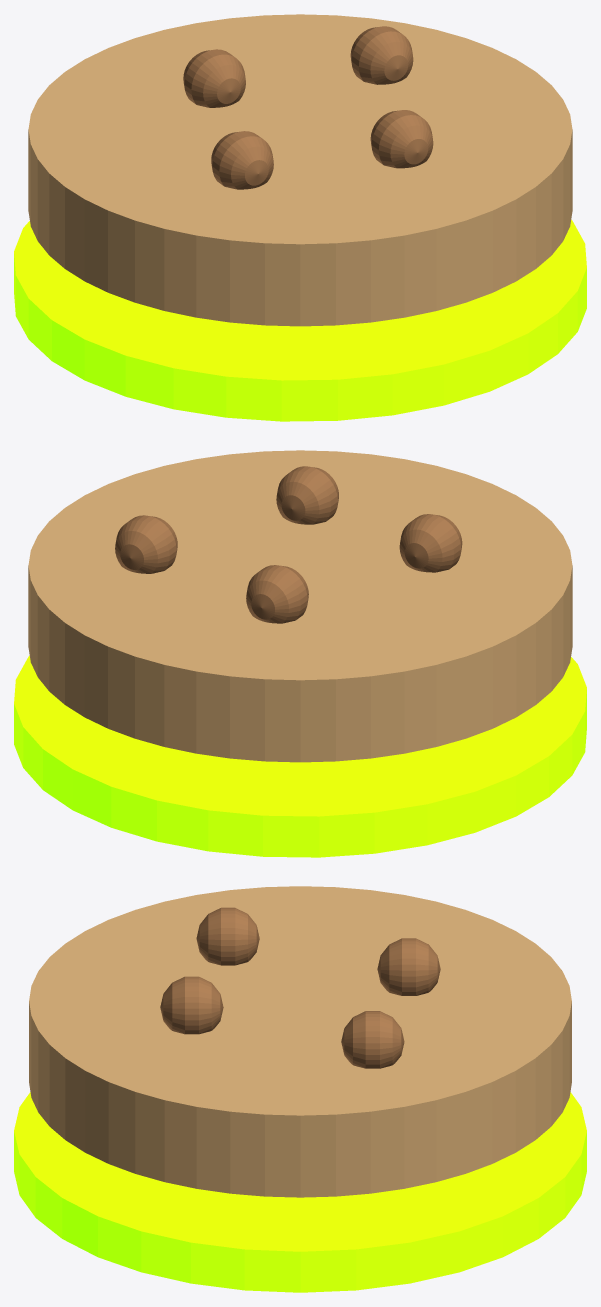
File: food_cookie.glb
The picture shows the model from 3 angles, top to bottom: view 1: azimuth 30°, elevation 25°; view 2: azimuth 150°, elevation 25°; view 3: azimuth 270°, elevation 25°; orthographic projection.
Visible parts, largest first — view 1: 01_19_Popular_Food_Cookie_part_01, 01_19_Popular_Food_Cookie_ROOT_base, 01_19_Popular_Food_Cookie_part_04, 01_19_Popular_Food_Cookie_part_02, 01_19_Popular_Food_Cookie_part_05, 01_19_Popular_Food_Cookie_part_03; view 2: 01_19_Popular_Food_Cookie_part_01, 01_19_Popular_Food_Cookie_ROOT_base, 01_19_Popular_Food_Cookie_part_05, 01_19_Popular_Food_Cookie_part_04, 01_19_Popular_Food_Cookie_part_02, 01_19_Popular_Food_Cookie_part_03; view 3: 01_19_Popular_Food_Cookie_part_01, 01_19_Popular_Food_Cookie_ROOT_base, 01_19_Popular_Food_Cookie_part_03, 01_19_Popular_Food_Cookie_part_02, 01_19_Popular_Food_Cookie_part_04, 01_19_Popular_Food_Cookie_part_05.
Boxes of the visible parts, left/top/right/bottom form: 01_19_Popular_Food_Cookie_part_01: left=28, top=14, right=572, bottom=326; 01_19_Popular_Food_Cookie_ROOT_base: left=14, top=220, right=586, bottom=421; 01_19_Popular_Food_Cookie_part_04: left=350, top=26, right=413, bottom=84; 01_19_Popular_Food_Cookie_part_02: left=211, top=131, right=273, bottom=189; 01_19_Popular_Food_Cookie_part_05: left=183, top=49, right=245, bottom=107; 01_19_Popular_Food_Cookie_part_03: left=370, top=110, right=433, bottom=168; 01_19_Popular_Food_Cookie_part_01: left=28, top=450, right=572, bottom=762; 01_19_Popular_Food_Cookie_ROOT_base: left=14, top=656, right=586, bottom=857; 01_19_Popular_Food_Cookie_part_05: left=246, top=565, right=308, bottom=623; 01_19_Popular_Food_Cookie_part_04: left=115, top=515, right=177, bottom=573; 01_19_Popular_Food_Cookie_part_02: left=399, top=514, right=462, bottom=572; 01_19_Popular_Food_Cookie_part_03: left=276, top=466, right=338, bottom=524; 01_19_Popular_Food_Cookie_part_01: left=29, top=886, right=571, bottom=1197; 01_19_Popular_Food_Cookie_ROOT_base: left=14, top=1092, right=586, bottom=1292; 01_19_Popular_Food_Cookie_part_03: left=160, top=976, right=223, bottom=1034; 01_19_Popular_Food_Cookie_part_02: left=196, top=907, right=259, bottom=965; 01_19_Popular_Food_Cookie_part_04: left=341, top=1011, right=404, bottom=1068; 01_19_Popular_Food_Cookie_part_05: left=377, top=938, right=440, bottom=995.
Size of the model in its own units: 0.76 by 0.3149 by 0.76.
